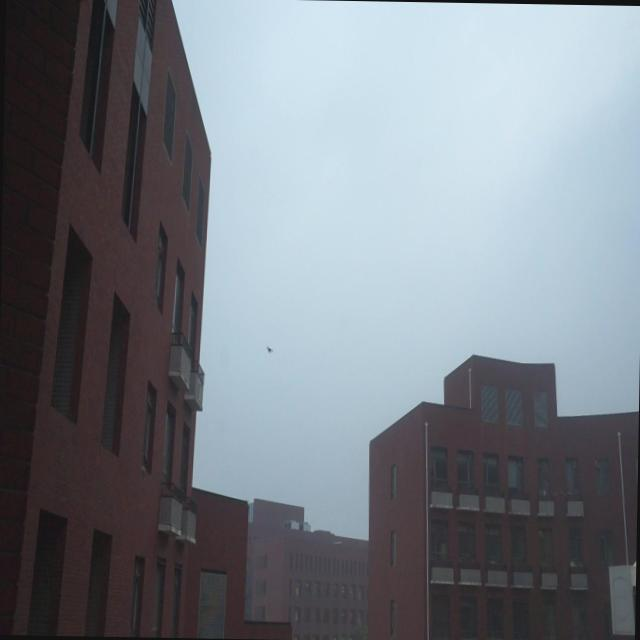drone: (264, 340, 276, 357)
